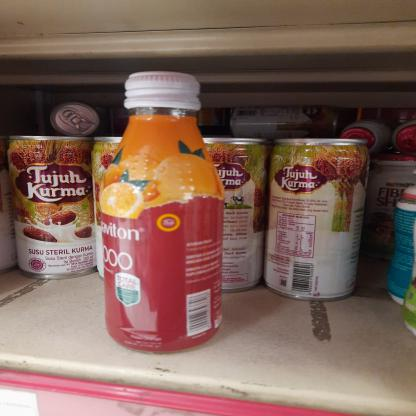bottle: (96, 67, 232, 356), (273, 122, 376, 304), (0, 127, 95, 282)
